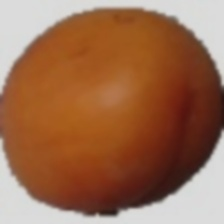apricot: (59, 15, 205, 179)
